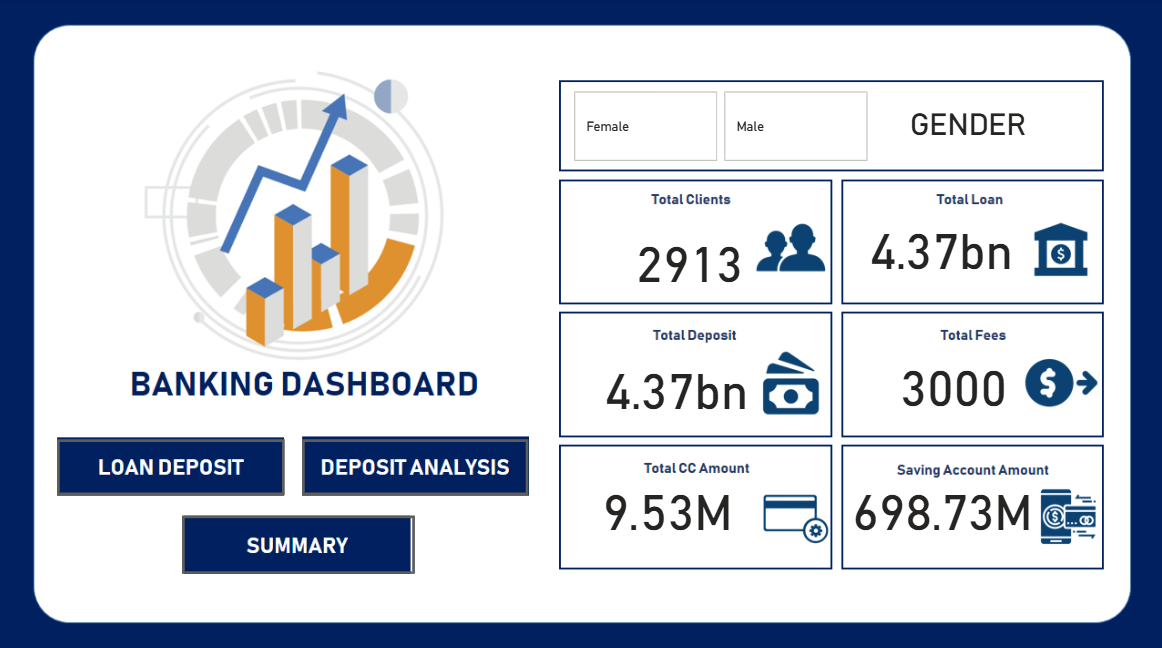

The page's visual inventory and layout, read from the dashboard file:
{"tool":"powerbi","page":{"name":"Home","canvas":[1280,720],"ordinal":0},"visuals":[{"type":"card","fields":{"Values":["Count(Banking (1).Name)"]},"box":[617.1,232.9,285.7,105.7],"z":0},{"type":"card","fields":{"Values":["Banking (1).Total Loan"]},"box":[930,222.9,212.9,98.6],"z":1},{"type":"card","fields":{"Values":["Banking (1).Total Loan"]},"box":[617.1,360,257.1,131.4],"z":2},{"type":"card","fields":{"Values":["Banking (1).Total Fee"]},"box":[930,370,240,102.9],"z":3},{"type":"card","fields":{"Values":["Banking (1).Total CC Amount"]},"box":[617.1,504.3,237.1,108.6],"z":4},{"type":"card","fields":{"Values":["Banking (1).Saving Account Amount"]},"box":[922.9,492.9,228.6,131.4],"z":5},{"type":"advancedSlicerVisual","fields":{"Values":["Banking (1).GenderId"]},"box":[625.7,94.3,505.7,92.9],"z":6},{"type":"textbox","box":[997.1,114.3,172.9,54.3],"z":7},{"type":"actionButton","box":[65.7,484.3,250,61.4],"z":8},{"type":"actionButton","box":[334.3,484.3,248.6,61.4],"z":9},{"type":"actionButton","box":[202.9,568.6,255.7,64.3],"z":10}]}

Visuals, with their boxes in screenshot pixels (x1, y1, x2, y2), scaled from the page's 1280x720 canvas onto the 1162x648 screenshot:
card - Count(Banking (1).Name): {"x1": 560, "y1": 210, "x2": 820, "y2": 305}
card - Banking (1).Total Loan: {"x1": 844, "y1": 201, "x2": 1038, "y2": 289}
card - Banking (1).Total Loan: {"x1": 560, "y1": 324, "x2": 794, "y2": 442}
card - Banking (1).Total Fee: {"x1": 844, "y1": 333, "x2": 1062, "y2": 426}
card - Banking (1).Total CC Amount: {"x1": 560, "y1": 454, "x2": 775, "y2": 552}
card - Banking (1).Saving Account Amount: {"x1": 838, "y1": 444, "x2": 1045, "y2": 562}
advancedSlicerVisual - Banking (1).GenderId: {"x1": 568, "y1": 85, "x2": 1027, "y2": 168}
textbox: {"x1": 905, "y1": 103, "x2": 1062, "y2": 152}
actionButton: {"x1": 60, "y1": 436, "x2": 287, "y2": 491}
actionButton: {"x1": 303, "y1": 436, "x2": 529, "y2": 491}
actionButton: {"x1": 184, "y1": 512, "x2": 416, "y2": 570}
